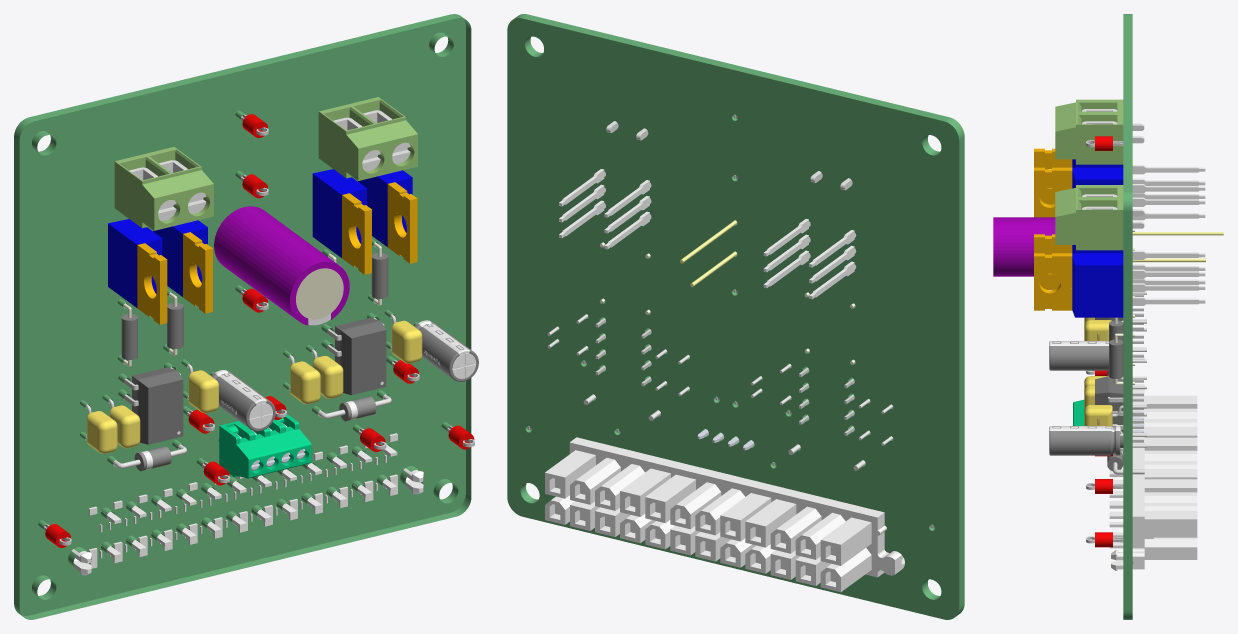
Rendered from motor-driver.glb.
3 renders of one model, left to right at view 1: azimuth 30°, elevation 25°; view 2: azimuth 150°, elevation 25°; view 3: azimuth 270°, elevation 25°, orthographic. The views are drawn at different scales.
Parts seen in each view (by area): view 1: n15, n20, n21, n24, n12, n8, n7, n19, n11, n2, n16, n14 (+6 smaller); view 2: n15, n8, n4, n1; view 3: n8, n20, n15, n24, n21, n2, n12, n19, n4, n7, n16, n17 (+5 smaller).
Boxes of the visible parts, box(x1,y1,x2,y2) form: n15: box(14, 14, 471, 619); n20: box(114, 97, 417, 230); n21: box(108, 169, 412, 307); n24: box(137, 182, 417, 324); n12: box(214, 206, 349, 325); n8: box(71, 381, 423, 575); n7: box(132, 318, 386, 444); n19: box(87, 320, 422, 453); n11: box(219, 414, 311, 478); n2: box(134, 321, 478, 471); n16: box(45, 114, 474, 547); n14: box(121, 253, 388, 359); n15: box(507, 14, 964, 619); n8: box(545, 169, 904, 592); n4: box(547, 314, 893, 470); n1: box(595, 318, 854, 435); n8: box(1109, 165, 1205, 570); n20: box(1055, 99, 1123, 250); n15: box(1123, 14, 1132, 619); n24: box(1034, 148, 1072, 310); n21: box(1072, 159, 1123, 317); n2: box(1049, 341, 1123, 471); n12: box(993, 217, 1055, 276); n19: box(1084, 317, 1112, 426); n4: box(1112, 291, 1146, 474); n7: box(1095, 317, 1123, 432); n16: box(1095, 136, 1112, 547); n17: box(1082, 109, 1144, 228).
Size of the model in its own units: 75.69 by 79.76 by 39.
